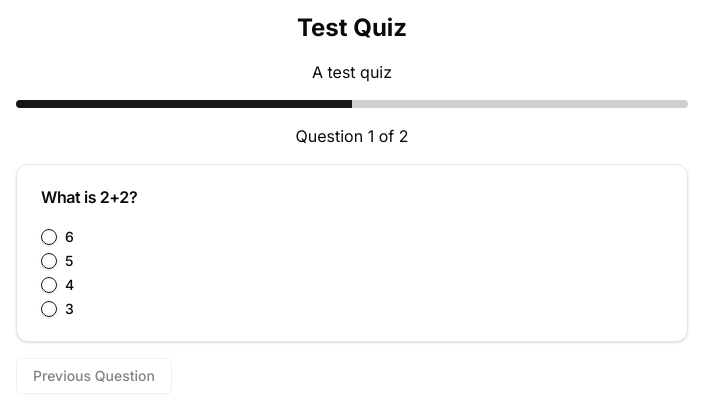
Test: Quiz Component › shows correct progress through quiz
The image size is (705, 411).
expect the text "Question 1 of 2" is shown: met, box x1=296 y1=126 x2=408 y2=146
// Answer first question
Click the 3rd radio button named "4" at (49, 285), box x1=41 y1=277 x2=57 y2=293
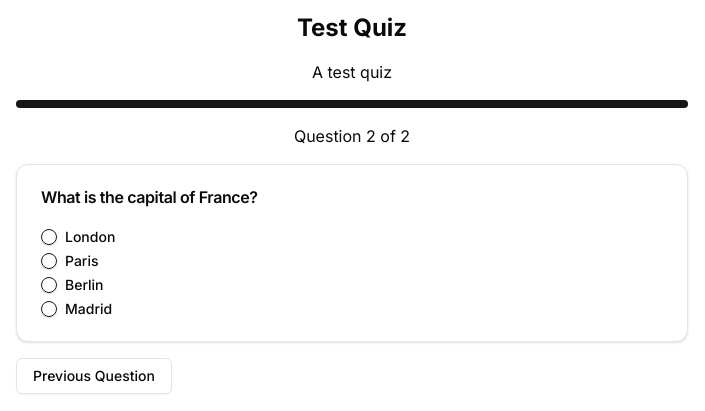
expect the text "Question 2 of 2" is shown: met, box x1=294 y1=126 x2=410 y2=146
